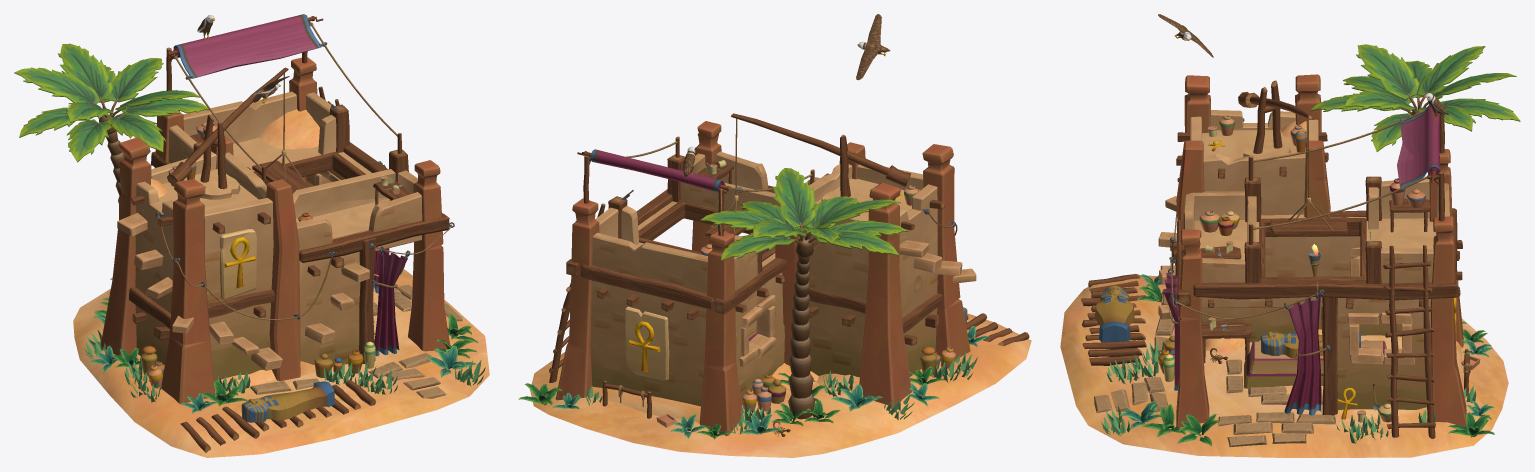
Rendered from stylized-egypt.gltf.
3 renders of one model, left to right at view 1: azimuth 30°, elevation 25°; view 2: azimuth 150°, elevation 25°; view 3: azimuth 270°, elevation 25°, orthographic. The views are drawn at different scales.
Parts seen in each view (by area): view 1: polySurface4038; view 2: polySurface4038; view 3: polySurface4038.
Boxes of the visible parts, x1,y1,x2,y2 form: polySurface4038: [14, 14, 489, 457]; polySurface4038: [518, 14, 1031, 457]; polySurface4038: [1060, 14, 1520, 457].
Size of the model in its own units: 275 by 238 by 292.
Materials: 3 (3 with a texture image).
